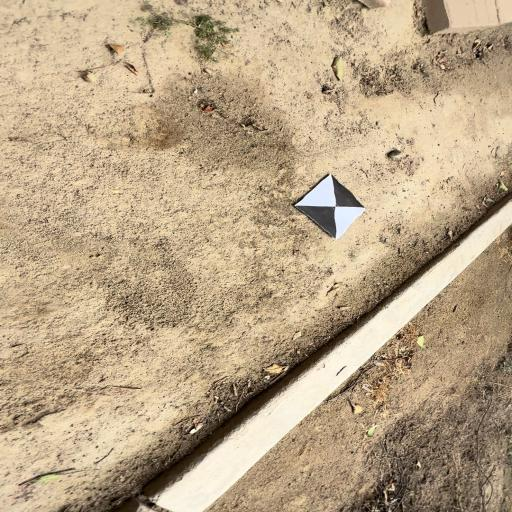target: (294, 175, 366, 239)
